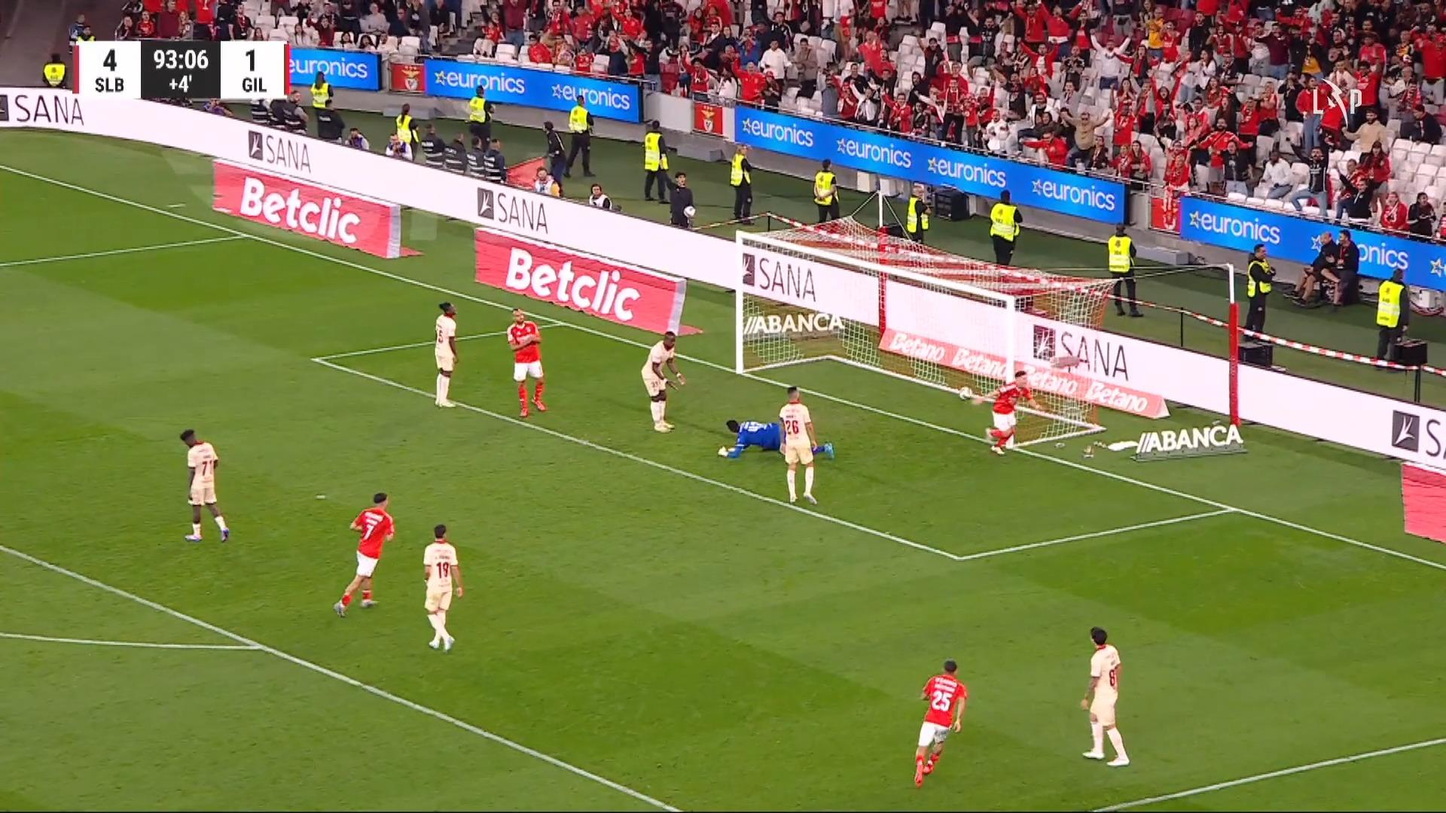ball: (958, 386, 971, 400)
goalkeeper: (717, 417, 835, 462)
player: (332, 492, 395, 618), (957, 369, 1041, 455), (1079, 626, 1130, 767), (912, 659, 967, 787), (178, 428, 230, 543), (421, 523, 464, 653), (777, 385, 818, 504), (505, 306, 548, 418), (639, 330, 685, 432), (433, 301, 459, 408)
